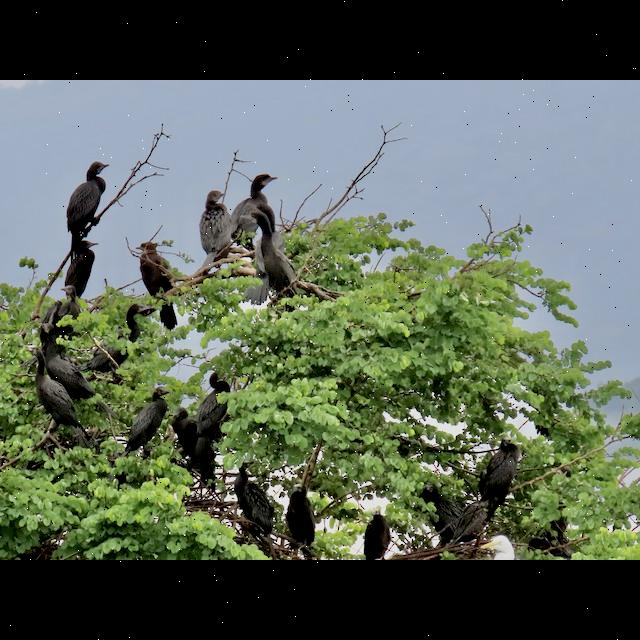cormorant: (134, 240, 188, 328), (56, 159, 110, 241), (118, 384, 170, 458), (196, 186, 232, 262)
